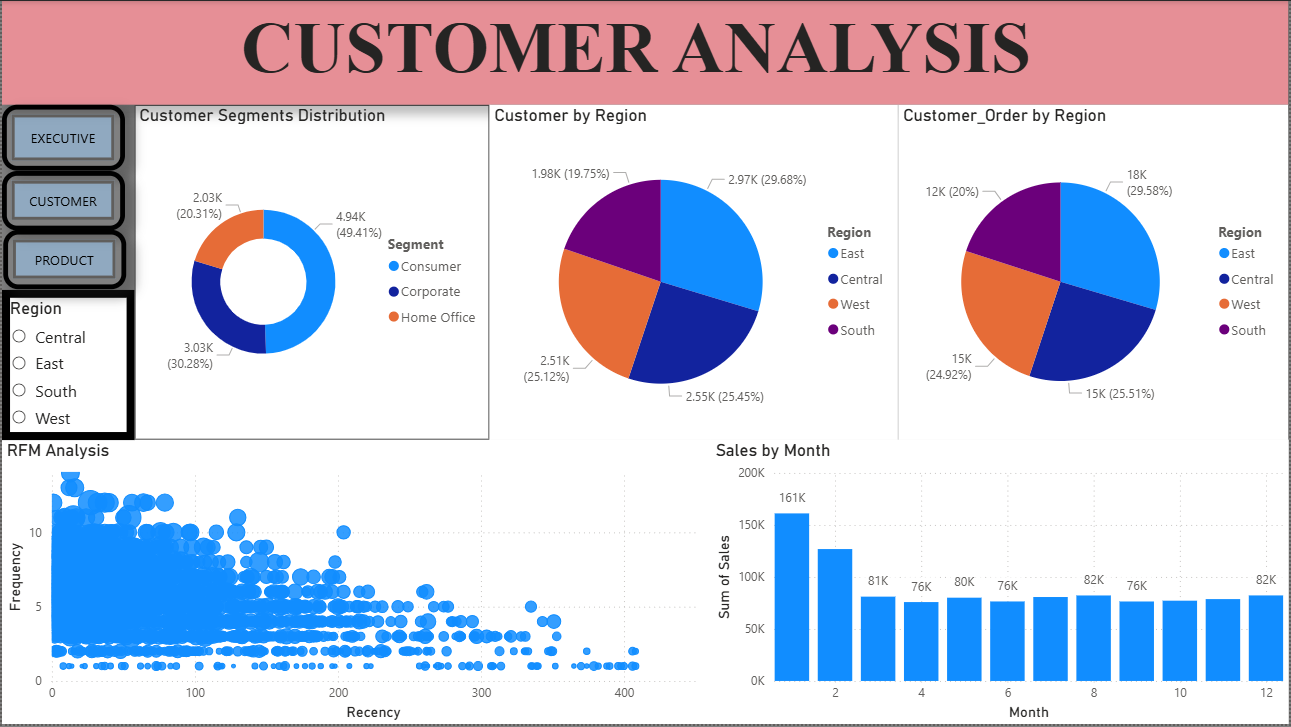

The dashboard page shown, as its layout file describes it:
{"tool":"powerbi","page":{"name":"customer","canvas":[1280,720],"ordinal":1},"visuals":[{"type":"donutChart","title":"Customer Segments Distribution","fields":{"Category":["cleaned_retail_sales.Segment"],"Y":["CountNonNull(cleaned_retail_sales.Customer_Name)"]},"box":[131.7,102.9,354,333.4],"z":0},{"type":"scatterChart","title":"RFM Analysis","fields":{"Size":["Sum(rfm_analysis.Monetary)"],"X":["rfm_analysis.Recency"],"Y":["rfm_analysis.Frequency"]},"box":[0,436.4,705.3,284],"z":1000},{"type":"textbox","box":[0,0,1280,103.2],"z":2000},{"type":"pieChart","title":"Customer_Order by Region","fields":{"Category":["cleaned_retail_sales.Region"],"Y":["Sum(cleaned_retail_sales.Customer_Order_Count)"]},"box":[891.9,102.9,388.3,333.4],"z":3000},{"type":"lineClusteredColumnComboChart","title":"Sales by Month","fields":{"Category":["cleaned_retail_sales.Month"],"Y":["Sum(cleaned_retail_sales.Sales)"]},"box":[705.3,436.4,575,284],"z":4000},{"type":"pieChart","title":"Customer by Region","fields":{"Y":["CountNonNull(cleaned_retail_sales.Customer_Name)"],"Category":["cleaned_retail_sales.Region"]},"box":[485.8,102.9,406.2,333.4],"z":5000},{"type":"actionButton","box":[0,102.9,122.1,65.9],"z":6000},{"type":"actionButton","box":[0,168.8,122.1,59],"z":7000},{"type":"listSlicer","fields":{"Values":["cleaned_retail_sales.Region"]},"box":[0,286.8,131.7,149.6],"z":8000},{"type":"actionButton","box":[1.4,227.8,122.1,59],"z":9000}]}

Visuals, with their boxes in screenshot pixels (x1, y1, x2, y2), scaled from the page's 1280x720 canvas onto the 1291x727 screenshot:
"Customer Segments Distribution" donutChart: 133, 104, 490, 441
"RFM Analysis" scatterChart: 0, 441, 711, 726
textbox: 0, 0, 1290, 104
"Customer_Order by Region" pieChart: 900, 104, 1290, 441
"Sales by Month" lineClusteredColumnComboChart: 711, 441, 1290, 726
"Customer by Region" pieChart: 490, 104, 900, 441
actionButton: 0, 104, 123, 170
actionButton: 0, 170, 123, 230
listSlicer - cleaned_retail_sales.Region: 0, 290, 133, 441
actionButton: 1, 230, 125, 290
